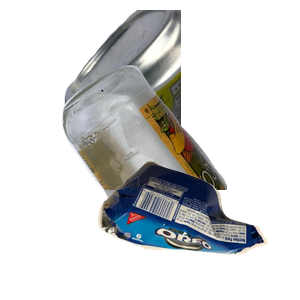glass: (60, 63, 300, 243)
metal: (60, 10, 300, 190)
plastic: (80, 120, 289, 300)
trash: (95, 158, 300, 300)
